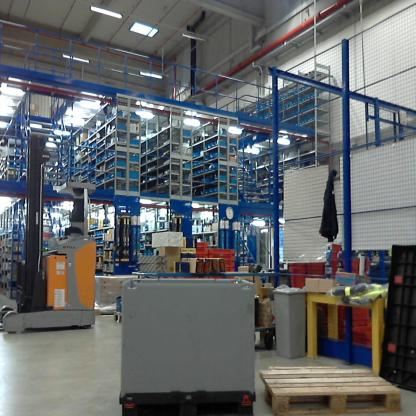forklift: (3, 125, 103, 341)
pallet: (259, 362, 404, 413), (115, 386, 254, 415)
small_load_carrier: (351, 324, 382, 349)
